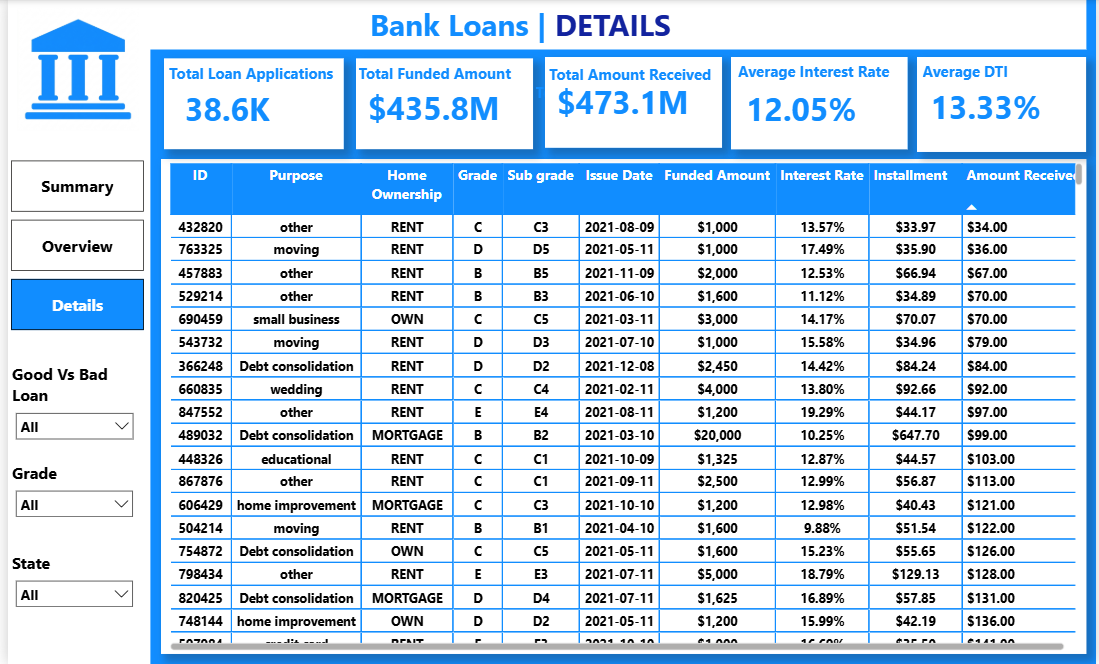

Layout of this report page (visuals, bound fields, positions):
{"tool":"powerbi","page":{"name":"Details","canvas":[1360,830],"ordinal":2},"visuals":[{"type":"shape","box":[0,0,1348.2,61.9],"z":0},{"type":"shape","box":[670.4,70.5,221.2,113.3],"z":0,"group":"g4"},{"type":"shape","box":[903.6,70.5,220.5,115.7],"z":0,"group":"g5"},{"type":"shape","box":[1136.8,70.5,211.5,118.7],"z":0,"group":"g6"},{"type":"shape","box":[196,72.3,224.4,113.3],"z":0,"group":"g1"},{"type":"shape","box":[434.9,72.3,221.2,113.3],"z":0,"group":"g2"},{"type":"cardVisual","fields":{"Data":["All measures.Total recevied"]},"box":[668.7,95.3,203.3,59],"z":1000,"group":"g4"},{"type":"cardVisual","fields":{"Data":["All measures.avg dti"]},"box":[1137.3,101.4,198.7,61.8],"z":1000,"group":"g6"},{"type":"cardVisual","fields":{"Data":["All measures.avg interest rate"]},"box":[905.2,102.2,198.7,61.8],"z":1000,"group":"g5"},{"type":"cardVisual","fields":{"Data":["All measures.Total Loan Application"]},"box":[204.2,102.4,158.4,60.5],"z":1000,"group":"g1"},{"type":"cardVisual","fields":{"Data":["All measures.Total Funded Amount"]},"box":[434.5,102.4,203.3,59],"z":1000,"group":"g2"},{"type":"cardVisual","fields":{"Data":["All measures.Total recevied"]},"box":[654.1,129.2,172.4,61.8],"z":1000,"group":"g3"},{"type":"shape","box":[191.3,198.8,1156.9,618.8],"z":1000},{"type":"shape","box":[0,0,178.1,830.6],"z":2000},{"type":"textbox","box":[1138.7,70.5,203.5,60.2],"z":2000,"group":"g6"},{"type":"textbox","box":[906.6,71.3,203.5,60.2],"z":2000,"group":"g5"},{"type":"textbox","box":[191.6,72.9,226.1,46.5],"z":2000,"group":"g1"},{"type":"textbox","box":[433.7,72.9,213.1,57.4],"z":2000,"group":"g2"},{"type":"textbox","box":[670.7,73.4,221.2,45],"z":2000,"group":"g4"},{"type":"textbox","box":[653.9,97.6,221.2,60.2],"z":2000,"group":"g3"},{"type":"group","id":"g1","title":"Group 1","box":[191.6,72.3,229.5,112.1],"z":3000},{"type":"group","id":"g2","title":"Group 1","box":[433.7,72.3,220.5,112.1],"z":4000},{"type":"group","id":"g3","title":"Group 1","box":[653.9,97.6,221.2,93.4],"z":5000},{"type":"group","id":"g4","title":"Group 1","box":[668.7,70.5,224.1,113.9],"z":6000},{"type":"group","id":"g5","title":"Group 1","box":[903.6,70.5,220.5,115.7],"z":7000},{"type":"group","id":"g6","title":"Group 1","box":[1136.8,70.5,211.5,117.5],"z":8000},{"type":"textbox","box":[419.6,0,440.8,61.8],"z":9000},{"type":"slicer","title":"State","fields":{"Values":["Cleaned_Bank_Loan_Data.address_state"]},"box":[0,690,166.3,79.5],"z":10000},{"type":"slicer","title":"Grade","fields":{"Values":["Cleaned_Bank_Loan_Data.grade"]},"box":[0,577.5,166.3,79.5],"z":11000},{"type":"slicer","title":"Good Vs Bad Loan","fields":{"Values":["Cleaned_Bank_Loan_Data.Good loan vs  Bad loan"]},"box":[0,453.8,166.9,106.9],"z":12000},{"type":"tableEx","fields":{"Values":["Cleaned_Bank_Loan_Data.id","Cleaned_Bank_Loan_Data.purpose","Cleaned_Bank_Loan_Data.home_ownership","Cleaned_Bank_Loan_Data.grade","Cleaned_Bank_Loan_Data.sub_grade","Cleaned_Bank_Loan_Data.issue_date","All measures.Total Funded Amount","Sum(Cleaned_Bank_Loan_Data.int_rate)","Sum(Cleaned_Bank_Loan_Data.installment)","All measures.Total recevied"]},"box":[196.9,198.8,1151.3,618.8],"z":14000},{"type":"pageNavigator","box":[3.8,200.6,166.3,213.3],"z":14001},{"type":"image","box":[12,6.9,152.8,158],"z":14002}]}

Visuals, with their boxes in screenshot pixels (x1, y1, x2, y2), scaled from the page's 1360x830 canvas onto the 1099x664 screenshot:
shape: BBox(0, 0, 1089, 50)
shape: BBox(542, 56, 720, 147)
shape: BBox(730, 56, 908, 149)
shape: BBox(919, 56, 1090, 151)
shape: BBox(158, 58, 340, 148)
shape: BBox(351, 58, 530, 148)
cardVisual - All measures.Total recevied: BBox(540, 76, 705, 123)
cardVisual - All measures.avg dti: BBox(919, 81, 1080, 131)
cardVisual - All measures.avg interest rate: BBox(731, 82, 892, 131)
cardVisual - All measures.Total Loan Application: BBox(165, 82, 293, 130)
cardVisual - All measures.Total Funded Amount: BBox(351, 82, 515, 129)
cardVisual - All measures.Total recevied: BBox(529, 103, 668, 153)
shape: BBox(155, 159, 1089, 654)
shape: BBox(0, 0, 144, 663)
textbox: BBox(920, 56, 1085, 105)
textbox: BBox(733, 57, 897, 105)
textbox: BBox(155, 58, 338, 96)
textbox: BBox(350, 58, 523, 104)
textbox: BBox(542, 59, 721, 95)
textbox: BBox(528, 78, 707, 126)
"Group 1" group: BBox(155, 58, 340, 148)
"Group 1" group: BBox(350, 58, 529, 148)
"Group 1" group: BBox(528, 78, 707, 153)
"Group 1" group: BBox(540, 56, 721, 148)
"Group 1" group: BBox(730, 56, 908, 149)
"Group 1" group: BBox(919, 56, 1090, 150)
textbox: BBox(339, 0, 695, 49)
"State" slicer: BBox(0, 552, 134, 616)
"Grade" slicer: BBox(0, 462, 134, 526)
"Good Vs Bad Loan" slicer: BBox(0, 363, 135, 449)
tableEx - Cleaned_Bank_Loan_Data.id x Cleaned_Bank_Loan_Data.purpose: BBox(159, 159, 1089, 654)
pageNavigator: BBox(3, 160, 137, 331)
image: BBox(10, 6, 133, 132)
